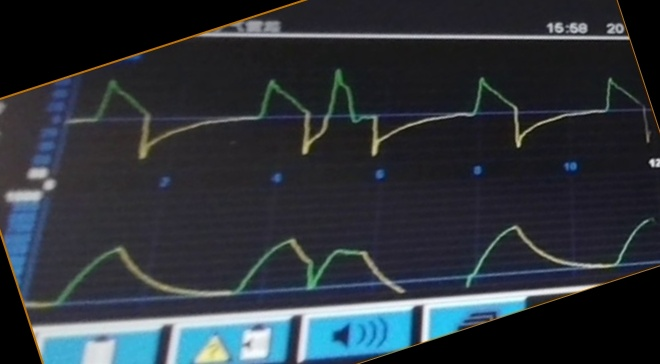Double_Triggering Flow: (94, 66, 626, 162)
Double_Triggering Volume: (56, 221, 637, 298)
